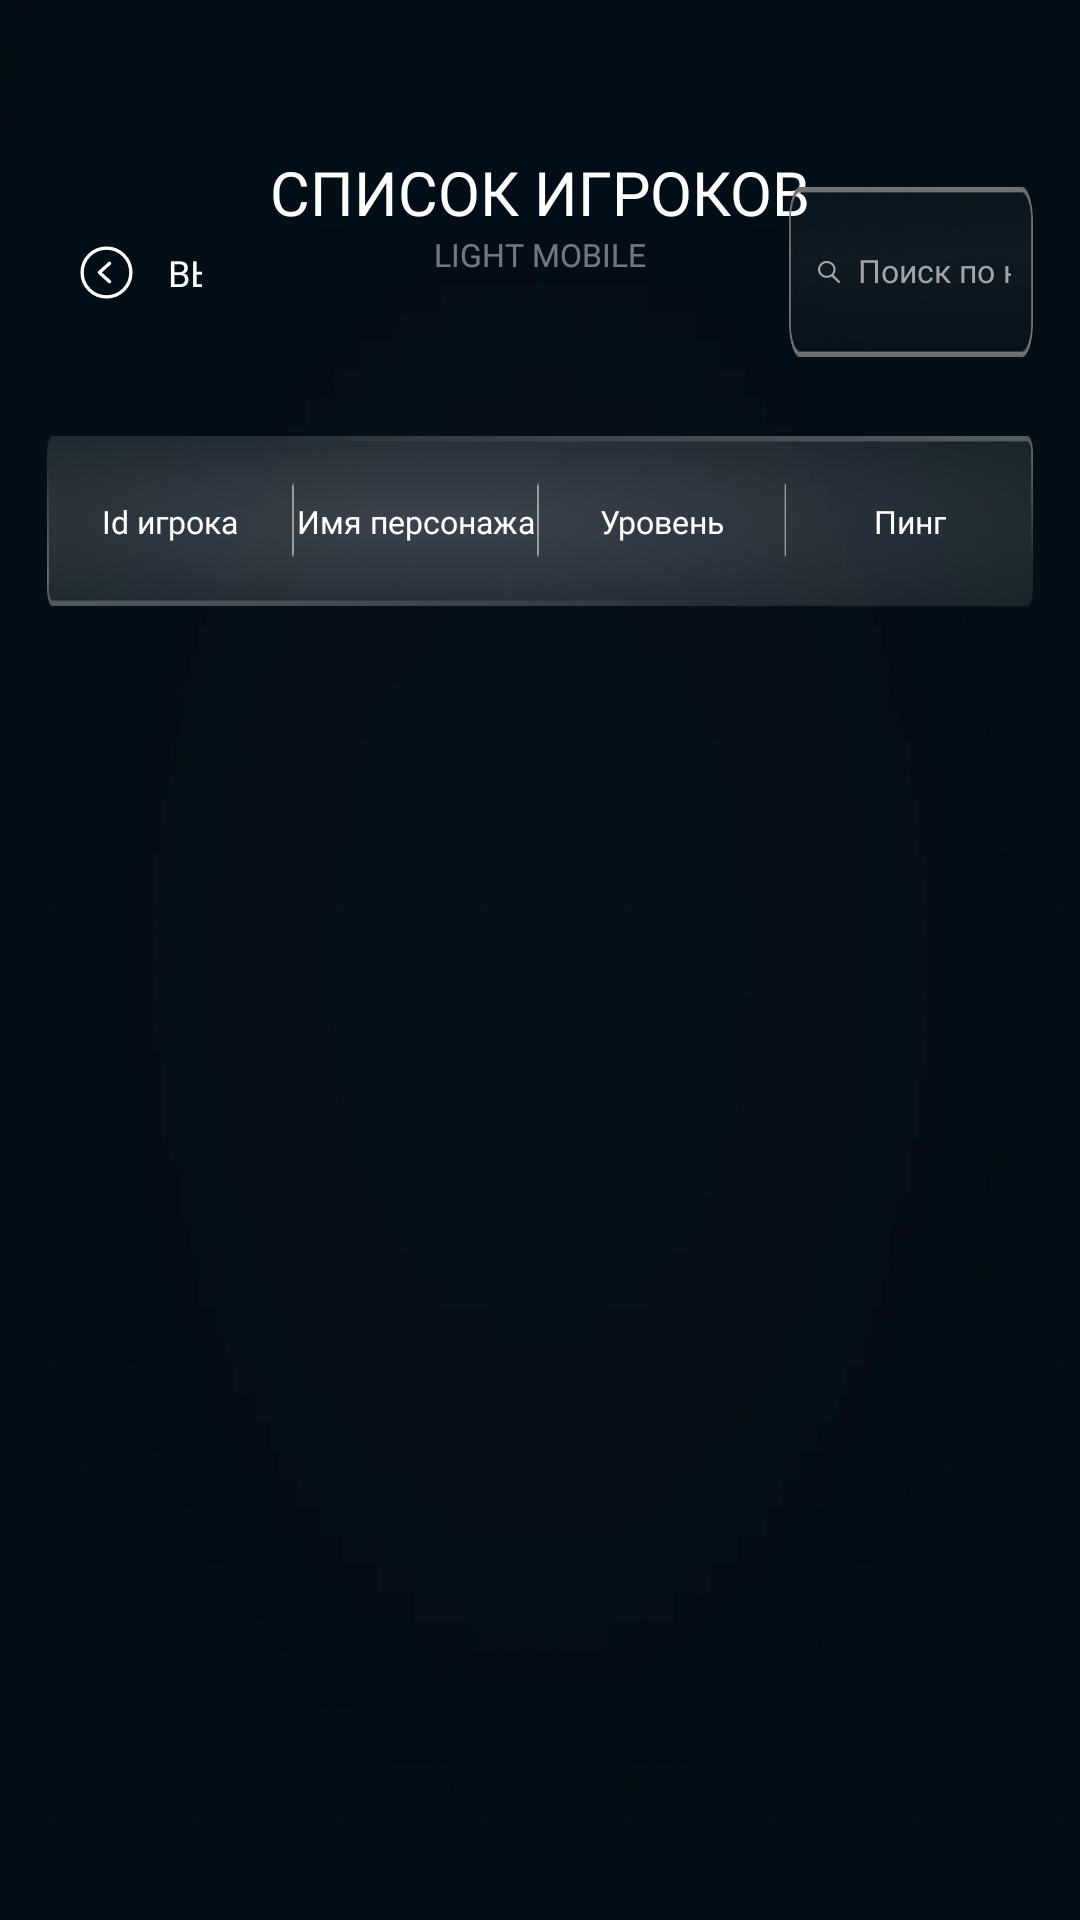

Where icons sit on this 1080w x 1920h app screen, as Rect(x1, y1, x2, y2):
auth back: Rect(80, 246, 133, 299)
